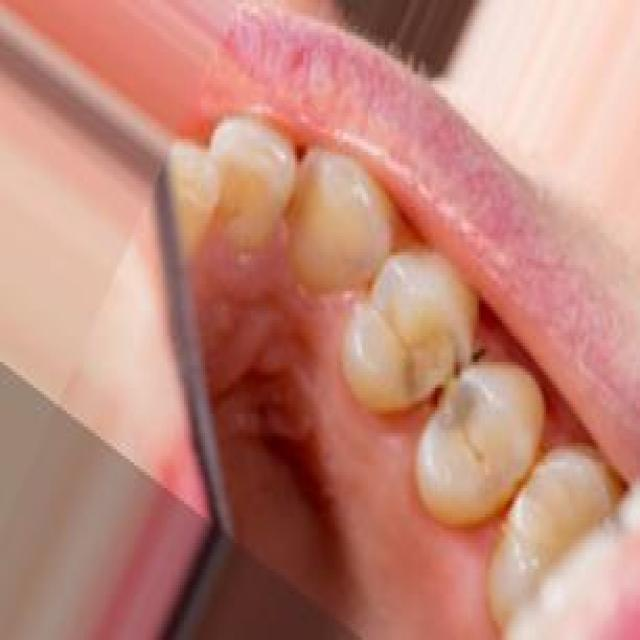caries: (390, 306, 486, 453)
